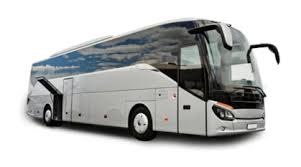bus: (26, 18, 280, 142)
